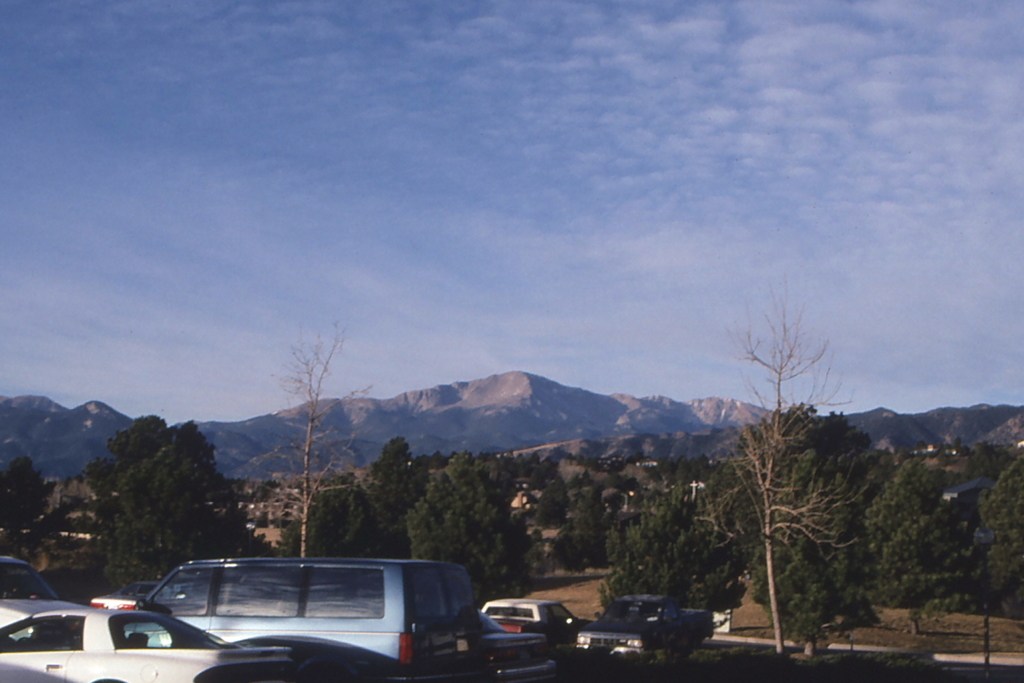car: (123, 543, 488, 683), (1, 593, 301, 683), (568, 576, 717, 671)
